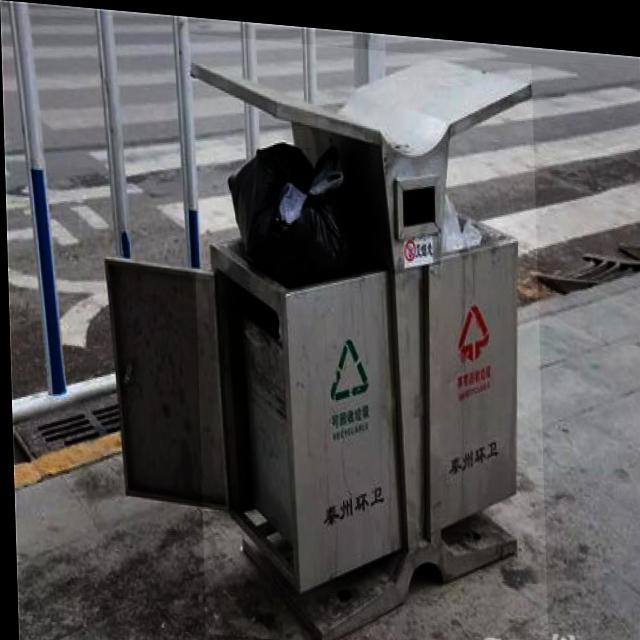overflow: (188, 30, 545, 640)
